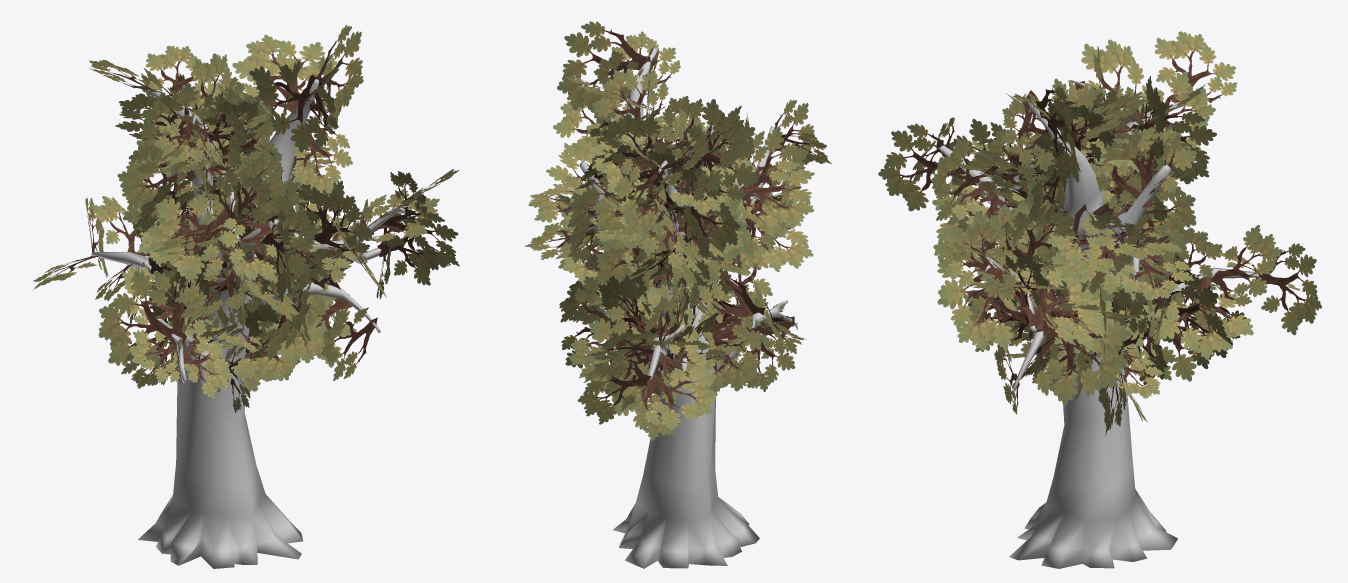
File: firstTree.fbx
The picture shows the model from 3 angles, left to right: view 1: azimuth 30°, elevation 25°; view 2: azimuth 150°, elevation 25°; view 3: azimuth 270°, elevation 25°; orthographic projection. The views are drawn at different scales.
Visible parts, largest first — view 1: tree.002; view 2: tree.002; view 3: tree.002.
Boxes of the visible parts, x1,y1,x2,y2 form: tree.002: [32, 24, 459, 568]; tree.002: [524, 21, 831, 568]; tree.002: [878, 31, 1321, 568].
Bounding box in the file's own units: 1566 × 2344 × 1911.
